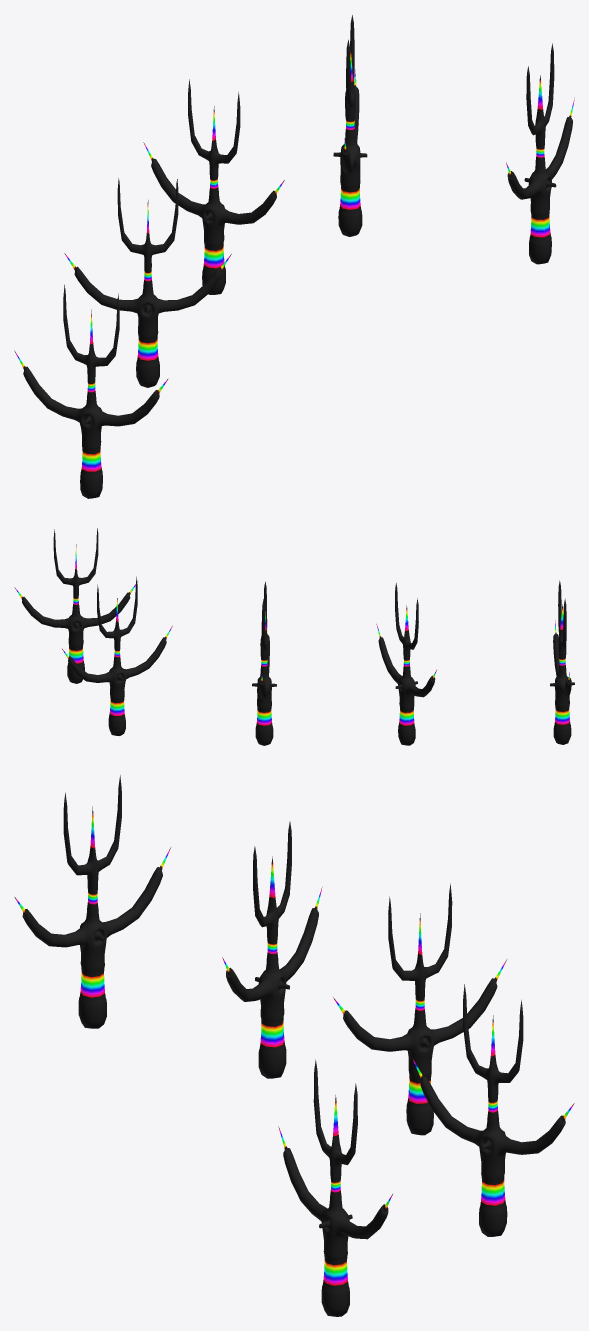
File: xenosands-monuments.glb
The picture shows the model from 3 angles, top to bottom: view 1: azimuth 30°, elevation 25°; view 2: azimuth 150°, elevation 25°; view 3: azimuth 270°, elevation 25°; orthographic projection. The views are drawn at different scales.
Parts seen in each view (by area): view 1: Monument.003, Monument.002, Monument.004, Monument.001, Monument; view 2: Monument, Monument.001, Monument.003, Monument.002, Monument.004; view 3: Monument, Monument.002, Monument.004, Monument.001, Monument.003.
Part boxes in pixels (bbox=[...]): Monument.003: bbox=[64, 178, 231, 387]; Monument.002: bbox=[14, 284, 168, 498]; Monument.004: bbox=[143, 79, 284, 294]; Monument.001: bbox=[506, 43, 574, 264]; Monument: bbox=[333, 15, 367, 236]; Monument: bbox=[62, 576, 172, 735]; Monument.001: bbox=[14, 528, 135, 683]; Monument.003: bbox=[376, 583, 436, 745]; Monument.002: bbox=[550, 580, 574, 744]; Monument.004: bbox=[252, 581, 276, 745]; Monument: bbox=[412, 984, 574, 1236]; Monument.002: bbox=[14, 775, 170, 1028]; Monument.004: bbox=[333, 883, 506, 1135]; Monument.001: bbox=[278, 1059, 392, 1316]; Monument.003: bbox=[222, 821, 322, 1078].
Size of the model in its own units: 23.96 by 8.63 by 15.16.
2 materials, 1 textured.
